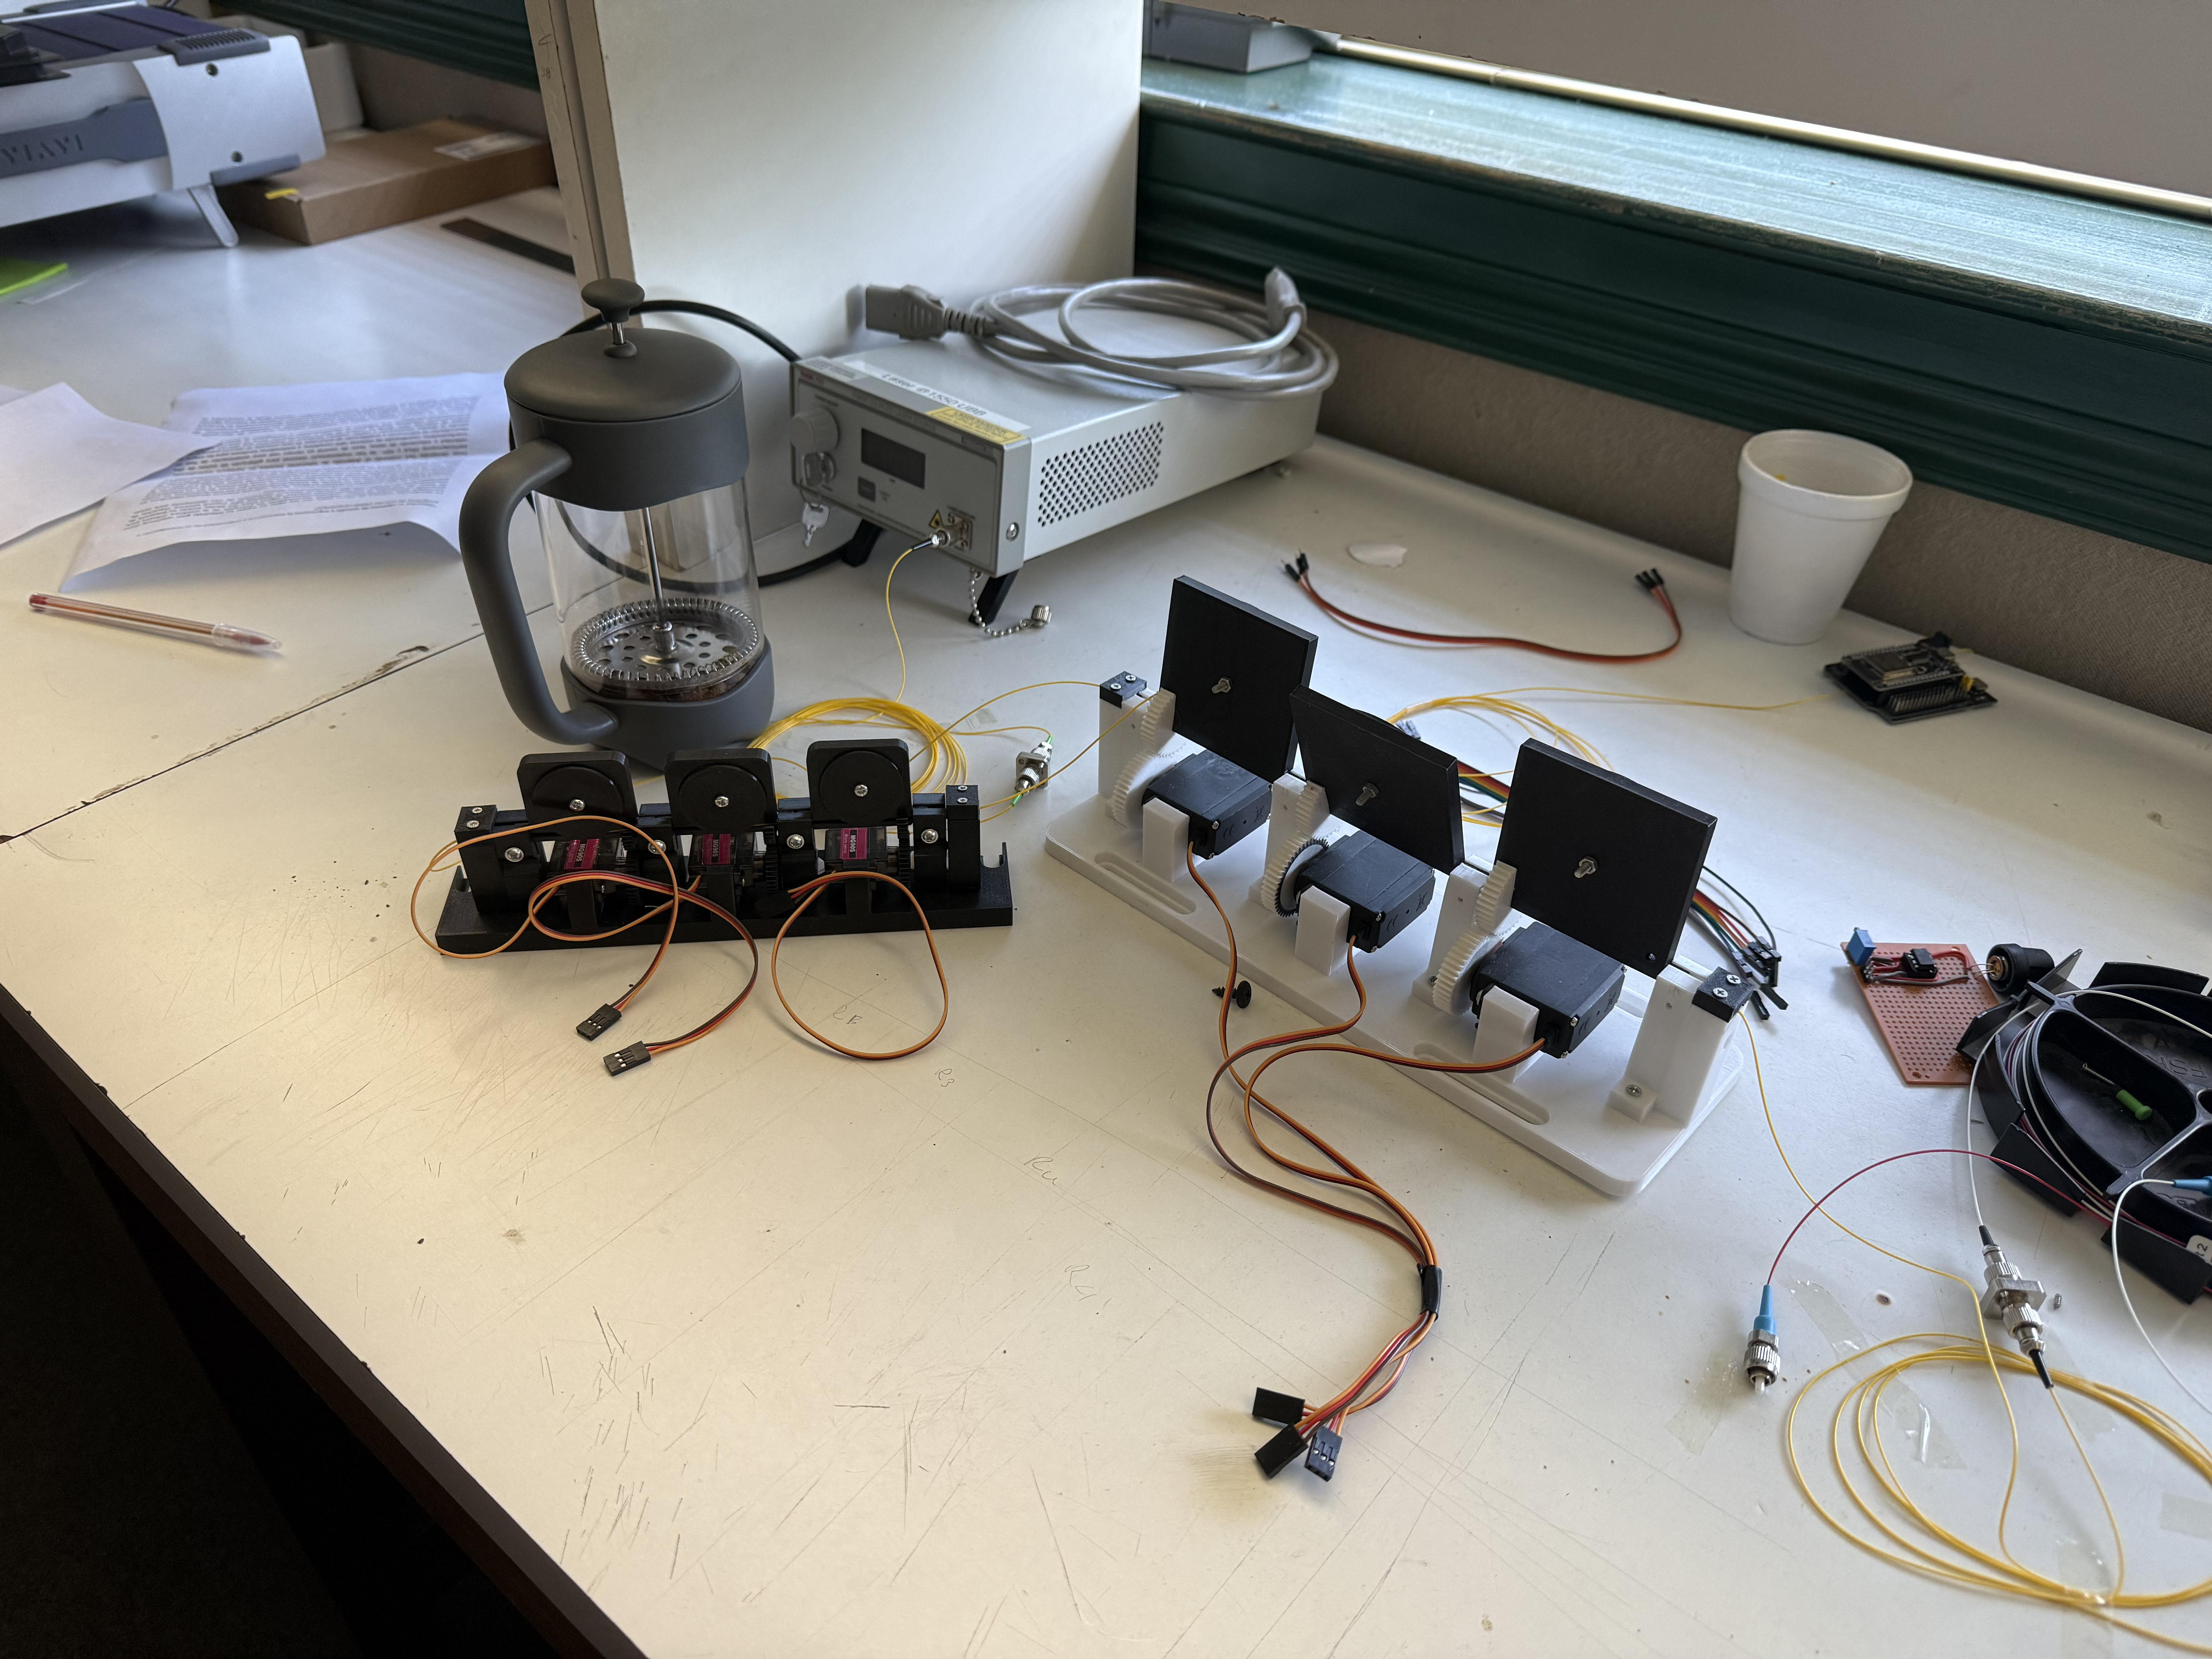laser: (771, 256, 1355, 699)
paddle_polarization_controller: (1024, 563, 1789, 1249), (397, 684, 1032, 1013)
